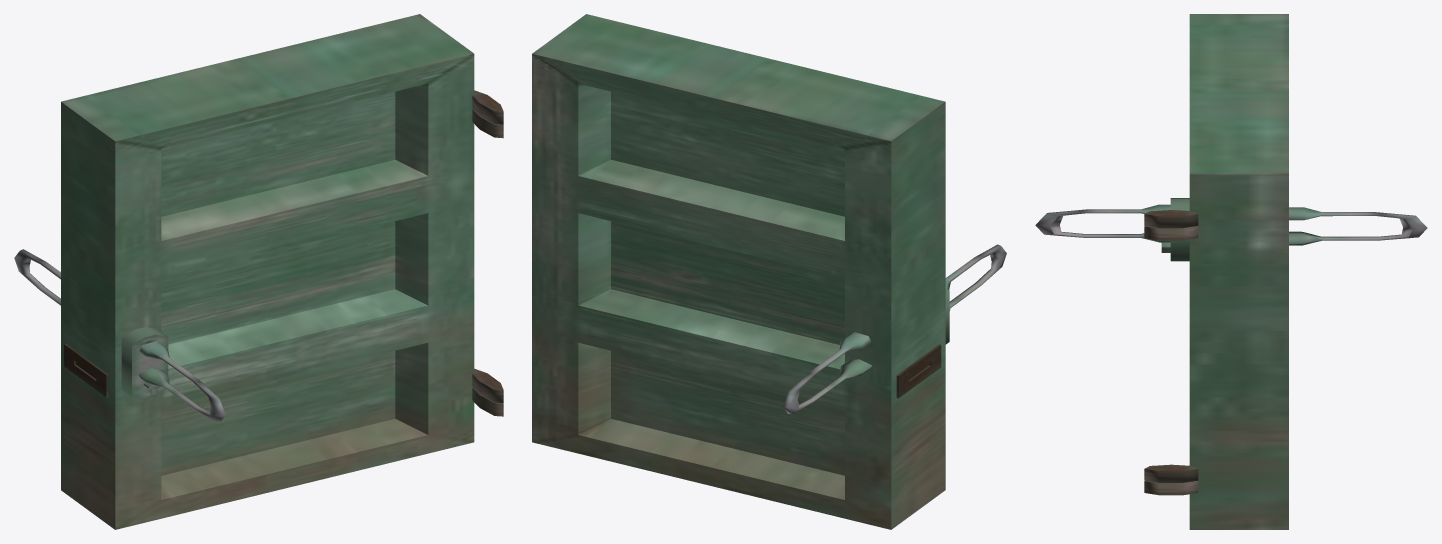
The model's file is SM_ServiceLeaf.glb.
The picture shows the model from 3 angles, left to right: view 1: azimuth 30°, elevation 25°; view 2: azimuth 150°, elevation 25°; view 3: azimuth 270°, elevation 25°; orthographic projection. The views are drawn at different scales.
Visible parts, largest first — view 1: SM_ServiceLeaf; view 2: SM_ServiceLeaf; view 3: SM_ServiceLeaf.
Part boxes in pixels (box(x1,y1,x2,y2)): SM_ServiceLeaf: box(14, 14, 503, 529); SM_ServiceLeaf: box(532, 14, 1006, 529); SM_ServiceLeaf: box(1035, 14, 1427, 529).
Bounding box in the file's own units: 1 × 1 × 1.
1 material, 1 textured.
